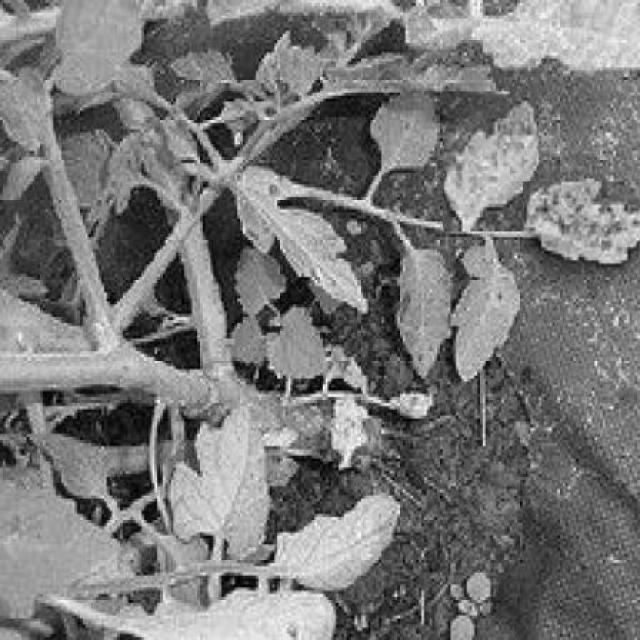Septoria: (443, 92, 538, 231), (523, 182, 640, 274)
